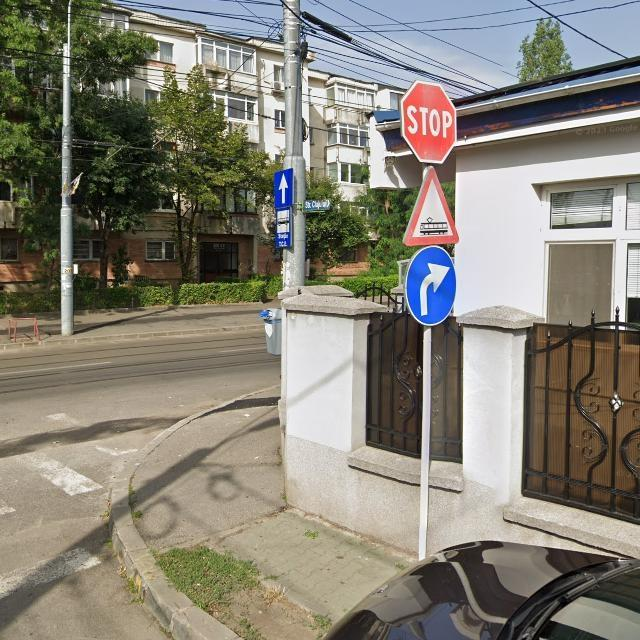prio_stop: (398, 80, 458, 164)
